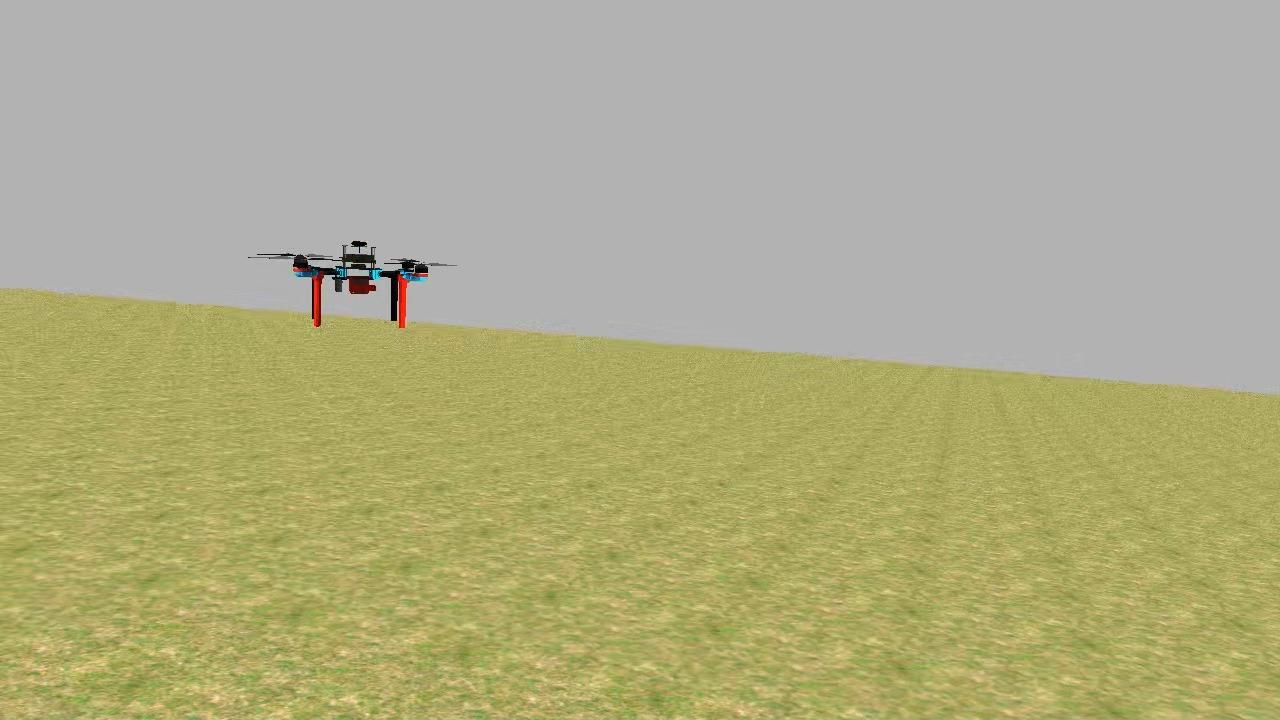UAV: (284, 234, 436, 334)
